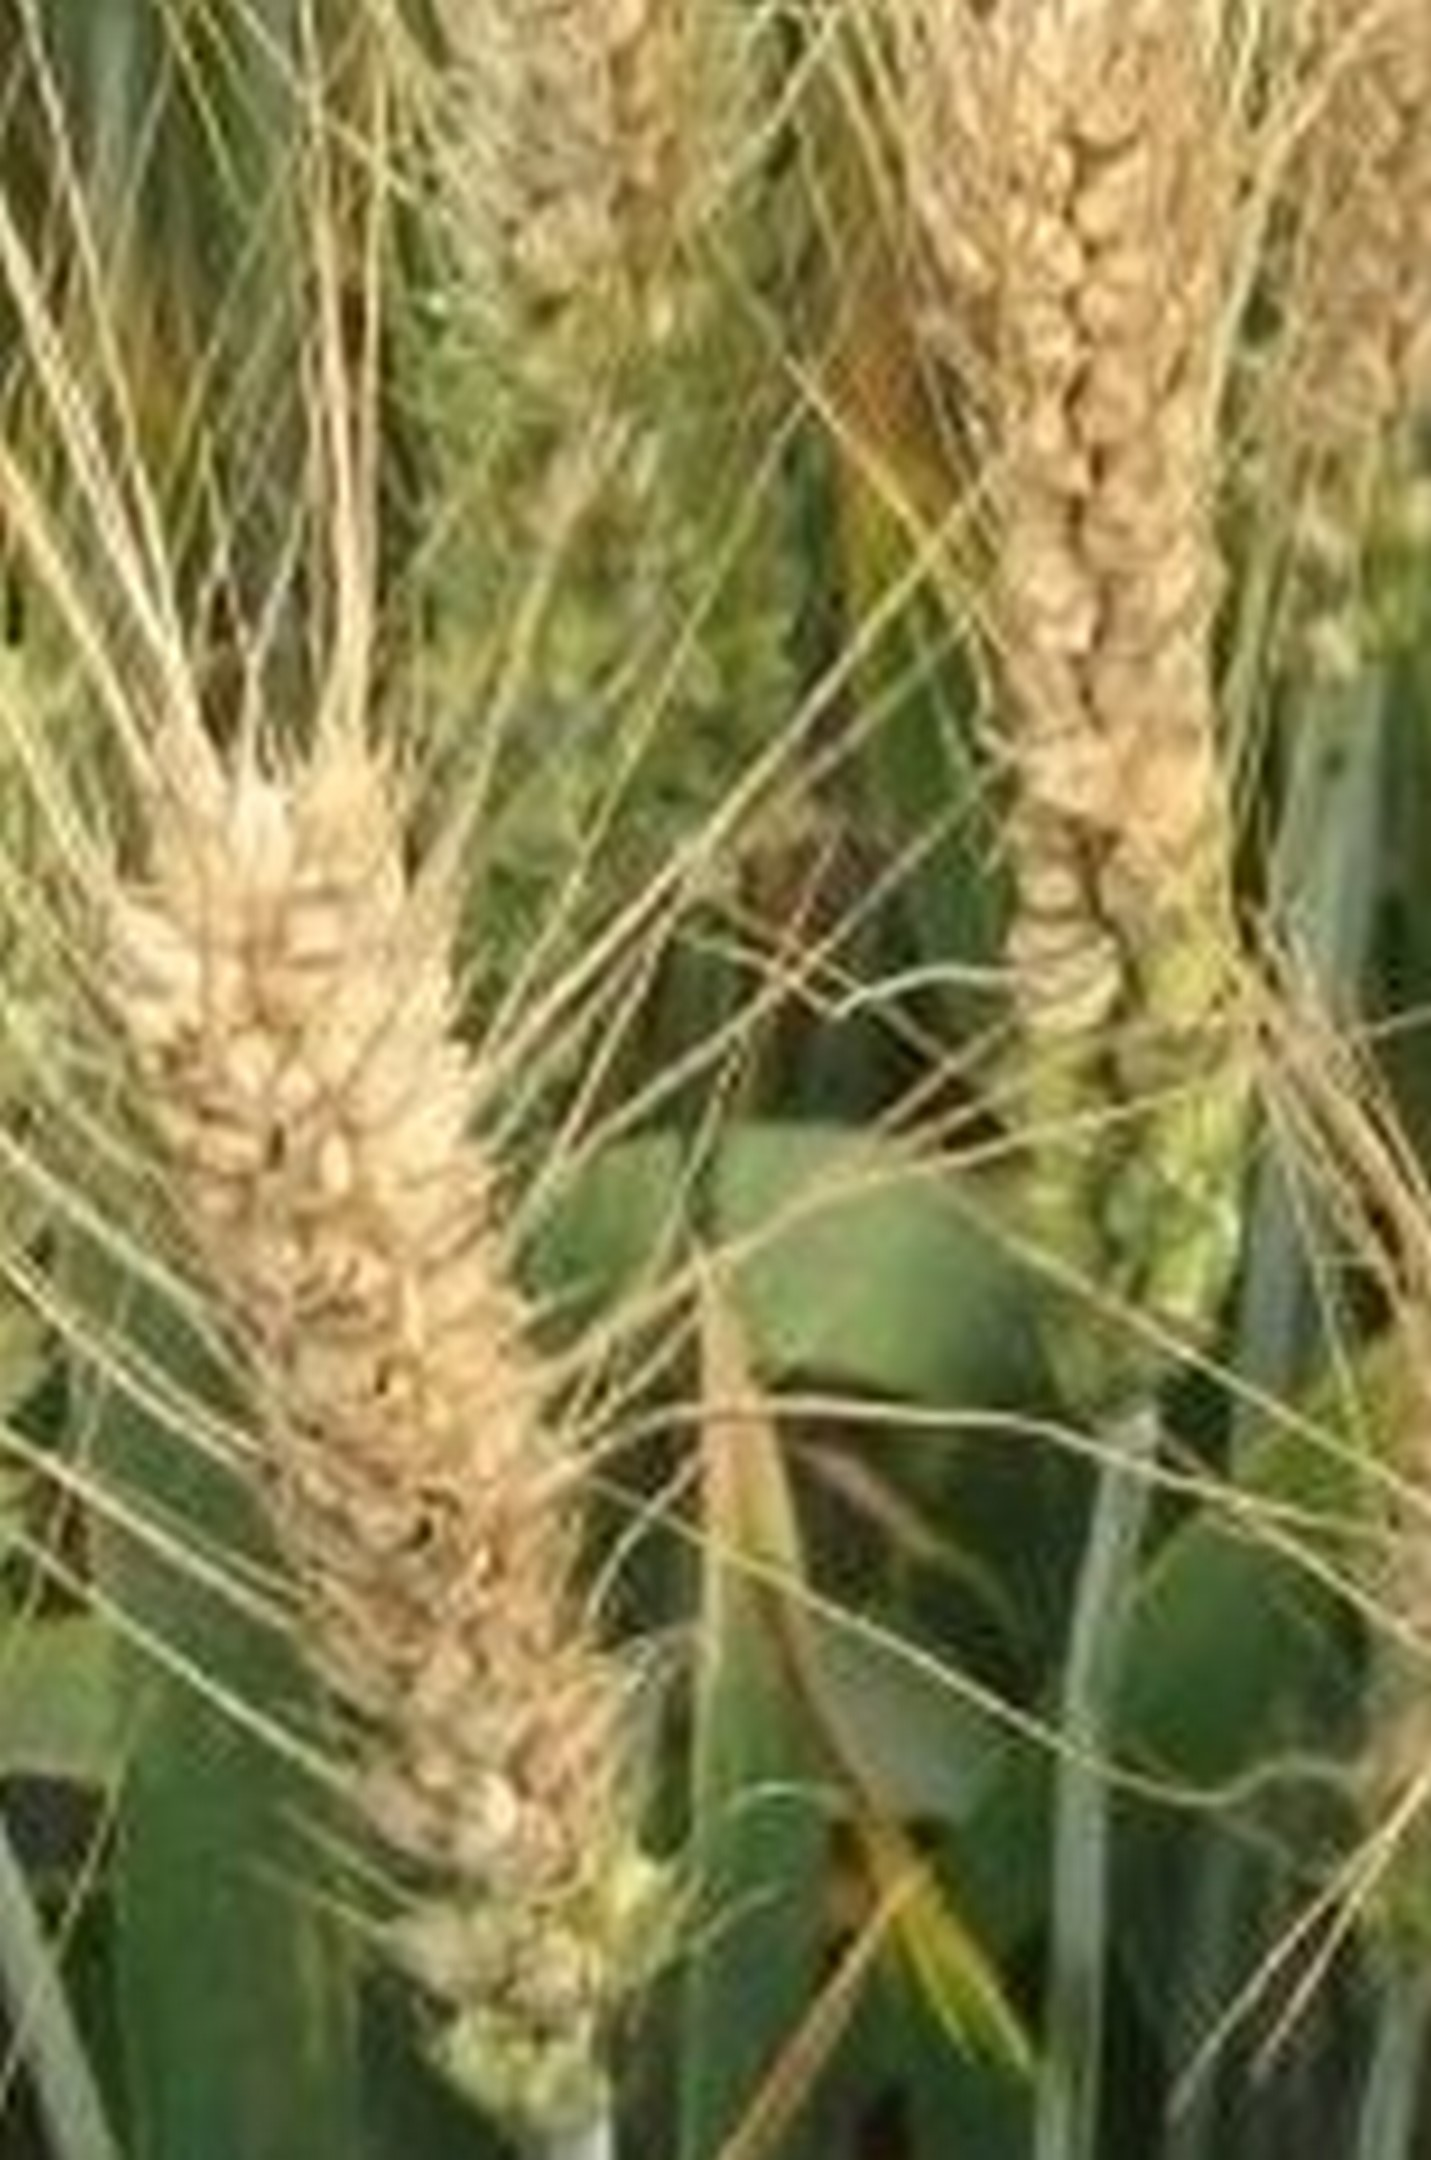Wheat scab: (113, 817, 700, 2115), (949, 77, 1311, 1414)
